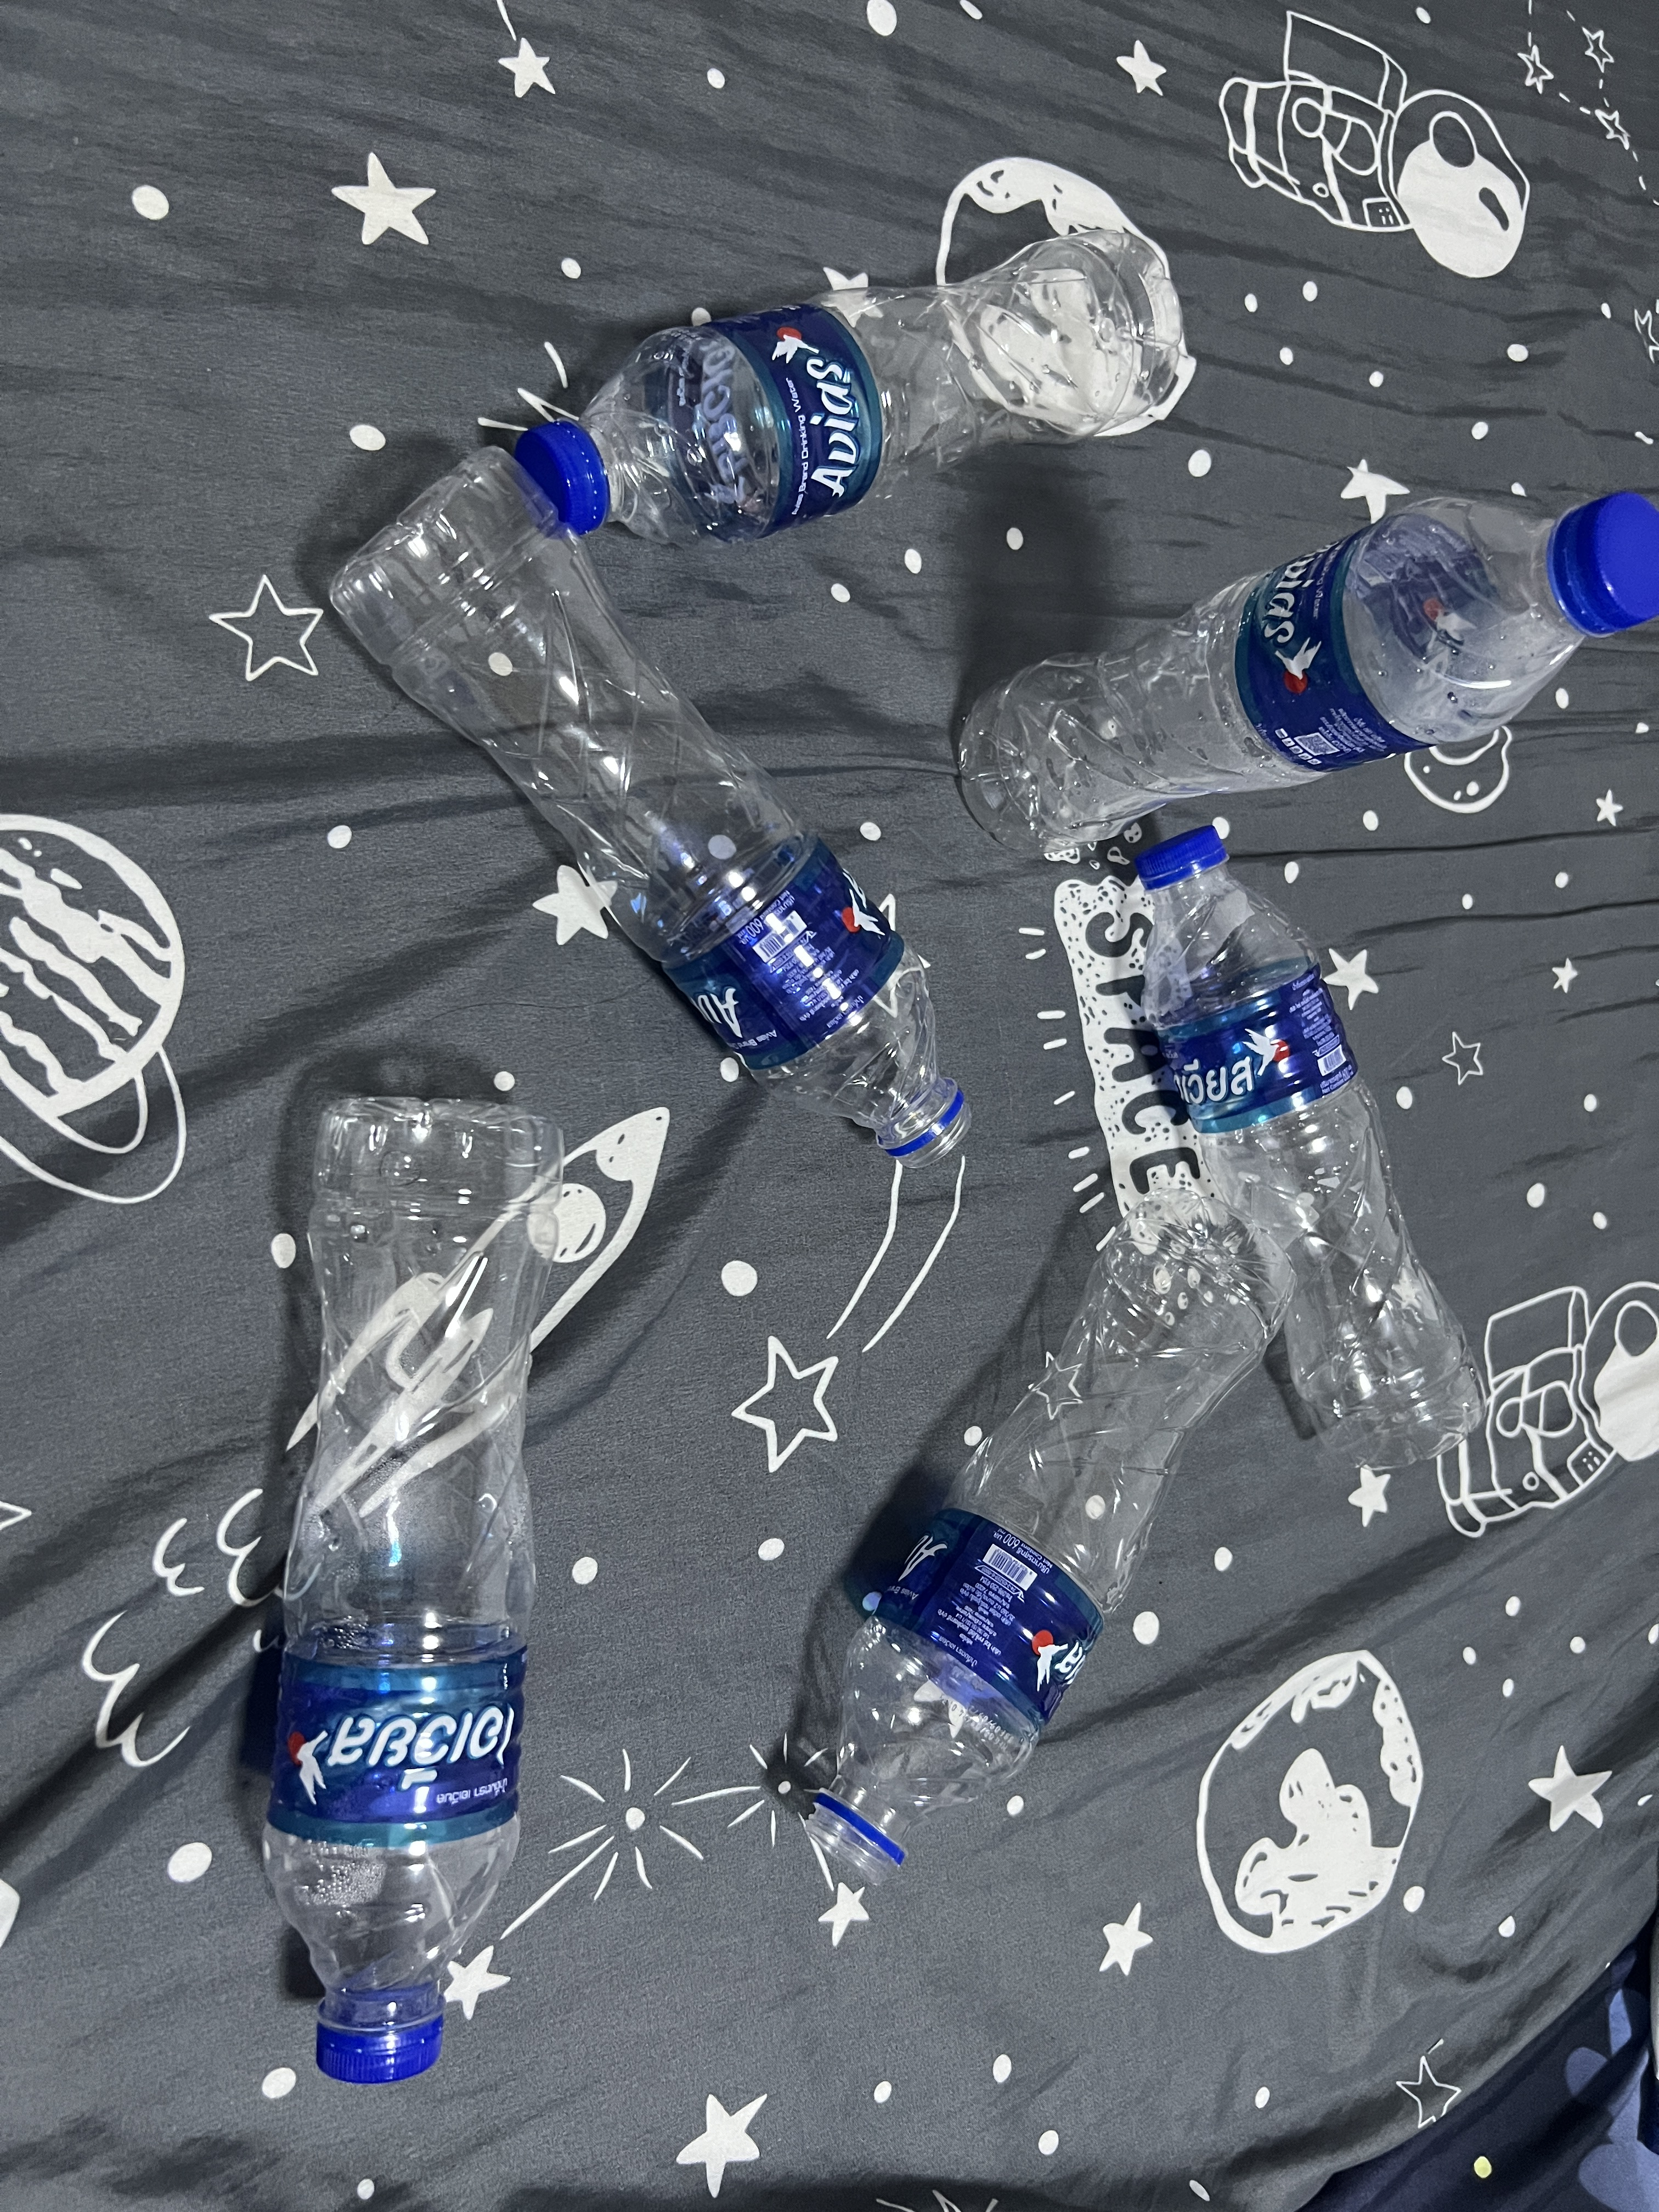plastic_bottle: (314, 432, 990, 1195), (234, 1050, 586, 2144), (772, 1188, 1302, 1892), (946, 470, 1659, 871), (1133, 822, 1513, 1508), (511, 219, 1201, 543)
